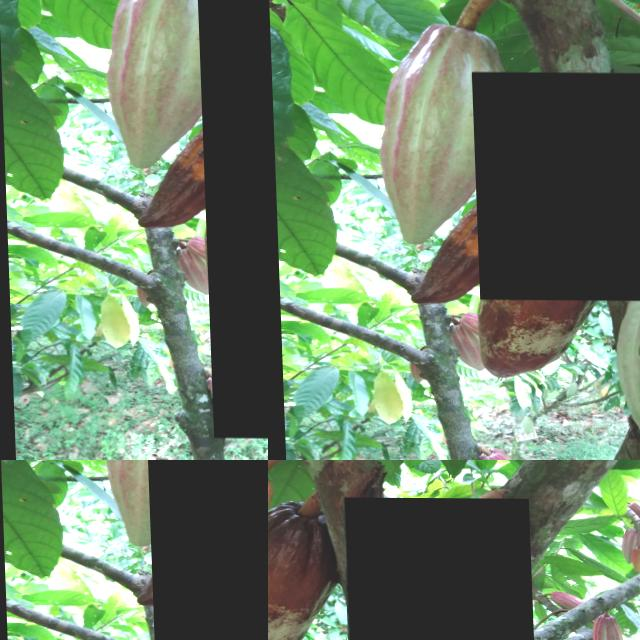Fitoftora: (196, 0, 268, 438), (268, 496, 336, 640)
Monilia: (471, 72, 640, 300)
Sana: (340, 497, 533, 640), (139, 460, 268, 640), (584, 607, 624, 640), (612, 527, 640, 567)
